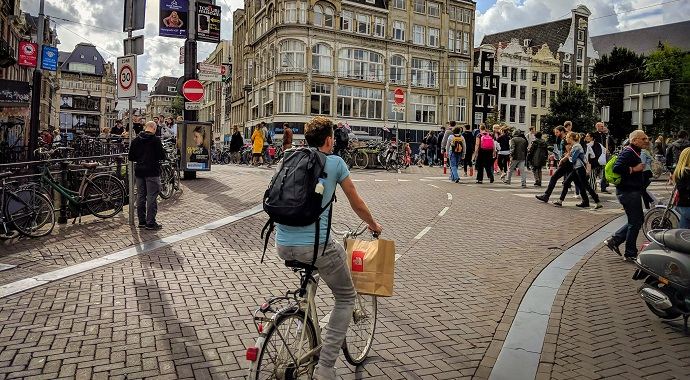commuter: (242, 114, 393, 380)
